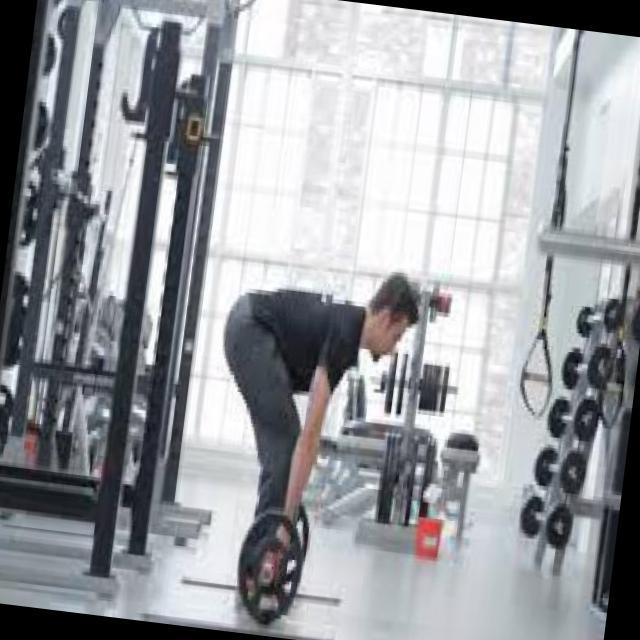barbell: (221, 499, 318, 634)
